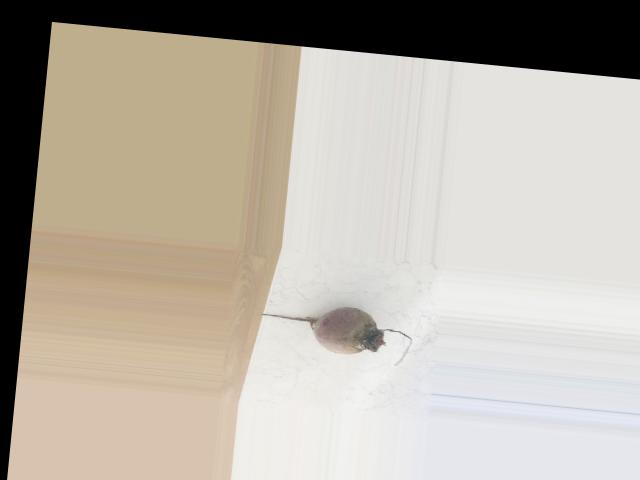beet: (255, 298, 413, 366)
